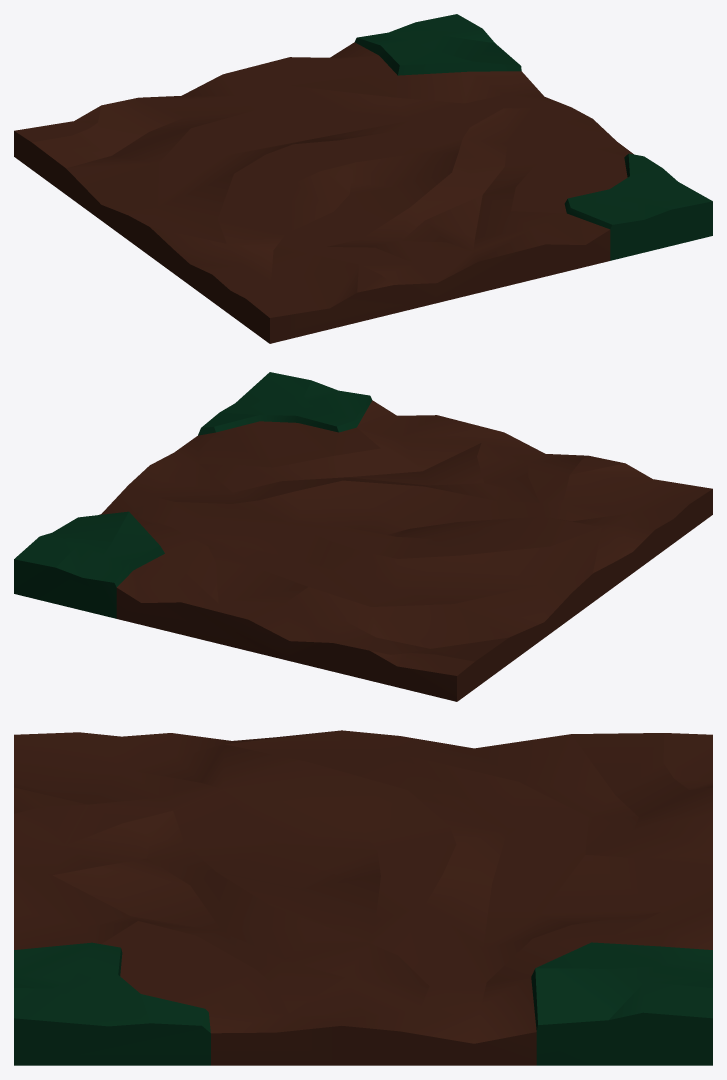
Rendered from Ground_Path_Entrance_R.fbx.
3 views of the same model, one above another, from view 1: azimuth 30°, elevation 25°; view 2: azimuth 150°, elevation 25°; view 3: azimuth 270°, elevation 25° (orthographic). The views are drawn at different scales.
Parts seen in each view (by area): view 1: Ground_Path_Entrance_R; view 2: Ground_Path_Entrance_R; view 3: Ground_Path_Entrance_R.
Part boxes in pixels (<box>): Ground_Path_Entrance_R: <box>14,14,712,343</box>; Ground_Path_Entrance_R: <box>14,372,712,701</box>; Ground_Path_Entrance_R: <box>14,730,712,1065</box>.
Bounding box in the file's own units: 147 × 14.83 × 147.
